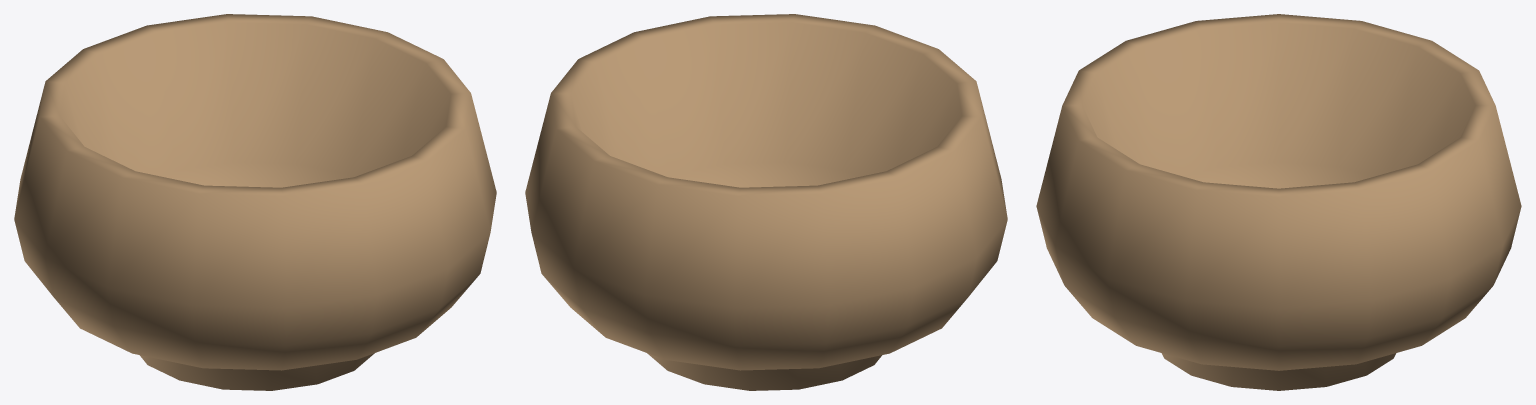
The model's file is bowl_001.fbx.
3 views of the same model, side by side, from view 1: azimuth 30°, elevation 25°; view 2: azimuth 150°, elevation 25°; view 3: azimuth 270°, elevation 25° (orthographic).
Parts seen in each view (by area): view 1: bowl_001; view 2: bowl_001; view 3: bowl_001.
Boxes of the visible parts, x1,y1,x2,y2 form: bowl_001: (14,14,496,390); bowl_001: (525,14,1007,390); bowl_001: (1036,14,1521,390).
Bounding box in the file's own units: 69.99 × 37.07 × 69.99.
Materials: 1 (1 with a texture image).
